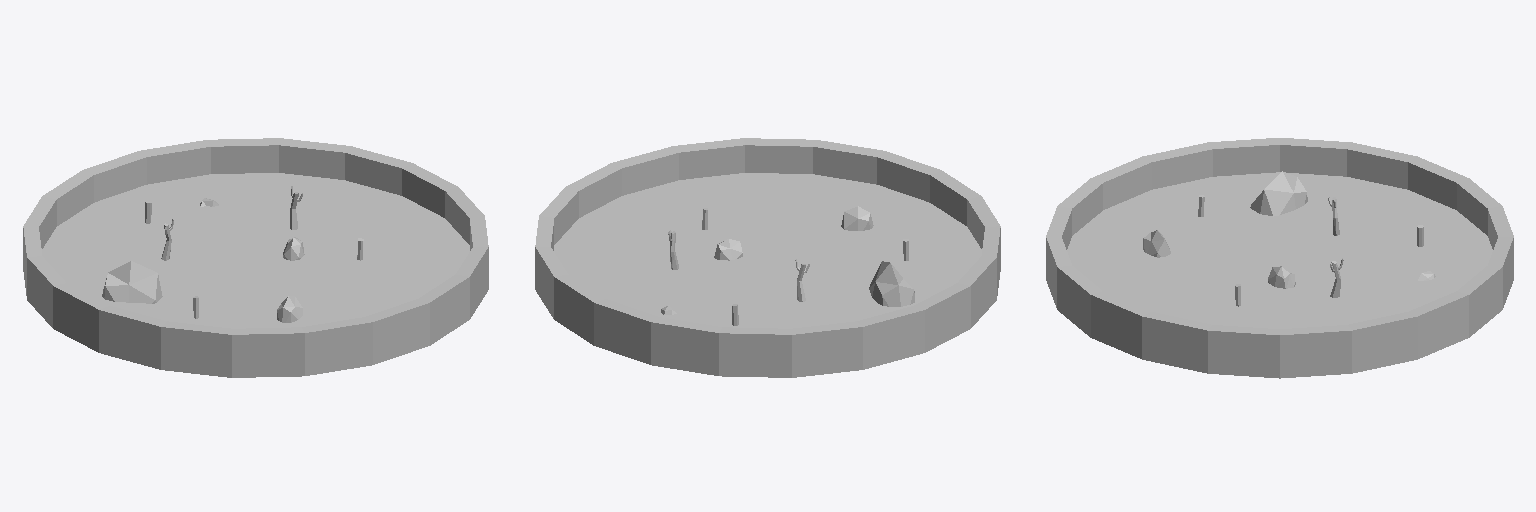
Rendered from escenario2.obj.
3 views of the same model, side by side, from view 1: azimuth 30°, elevation 25°; view 2: azimuth 150°, elevation 25°; view 3: azimuth 270°, elevation 25° (orthographic).
Visible parts, largest first — view 1: pCylinder3; view 2: pCylinder3; view 3: pCylinder3.
Boxes of the visible parts, box(x1,y1,x2,y2) form: pCylinder3: box(23, 138, 488, 377); pCylinder3: box(535, 138, 1000, 377); pCylinder3: box(1046, 138, 1513, 378).
Size of the model in its own units: 1790 by 261 by 1790.